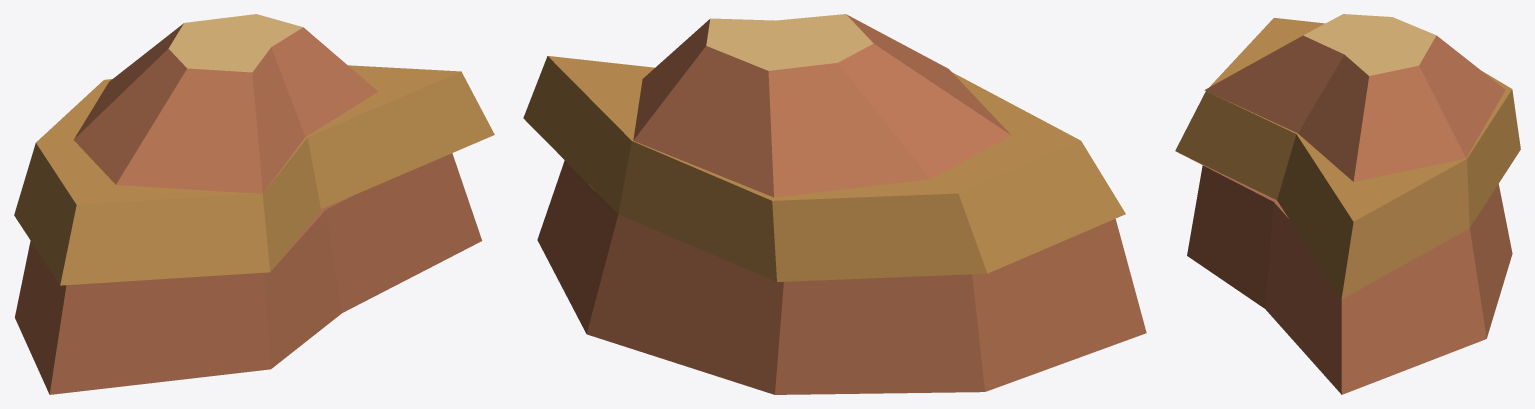
Rendered from rock_stone.glb.
The picture shows the model from 3 angles, left to right: view 1: azimuth 30°, elevation 25°; view 2: azimuth 150°, elevation 25°; view 3: azimuth 270°, elevation 25°; orthographic projection. The views are drawn at different scales.
Parts seen in each view (by area): view 1: rock_stone; view 2: rock_stone; view 3: rock_stone.
Boxes of the visible parts, x1,y1,x2,y2 form: rock_stone: (14,14,494,394); rock_stone: (523,14,1146,394); rock_stone: (1175,14,1520,394).
Bounding box in the file's own units: 0.5522 × 0.26 × 0.3399.
